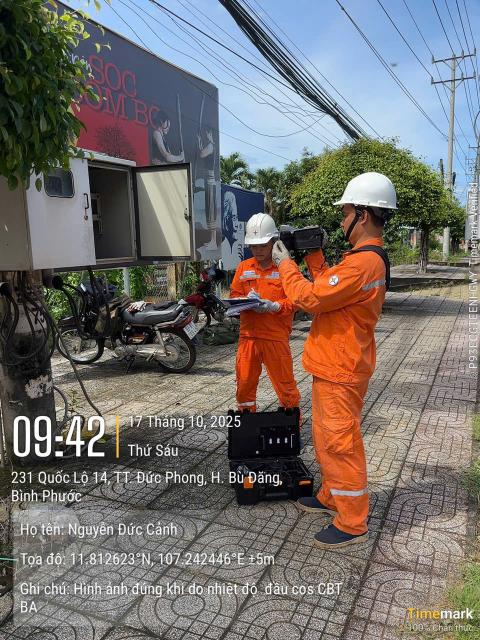gloves: (246, 298, 285, 315), (270, 244, 292, 270), (242, 288, 261, 305)
helmet: (333, 161, 404, 225), (236, 214, 284, 251)
shoes: (288, 483, 354, 522), (315, 515, 370, 550)
